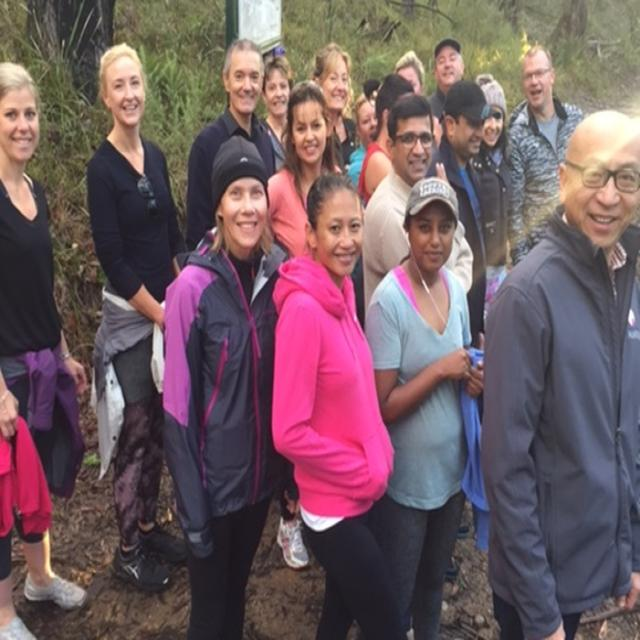body: (481, 103, 639, 639), (80, 39, 199, 596), (270, 169, 404, 640), (162, 138, 281, 630), (367, 174, 488, 638), (0, 57, 92, 639), (267, 78, 345, 573), (360, 91, 474, 324), (424, 77, 500, 425), (184, 36, 278, 254), (502, 44, 585, 267), (467, 70, 517, 271), (353, 68, 418, 209), (311, 40, 357, 166), (255, 54, 295, 176), (340, 77, 382, 188), (345, 90, 380, 194), (426, 36, 466, 119), (394, 48, 428, 98)
